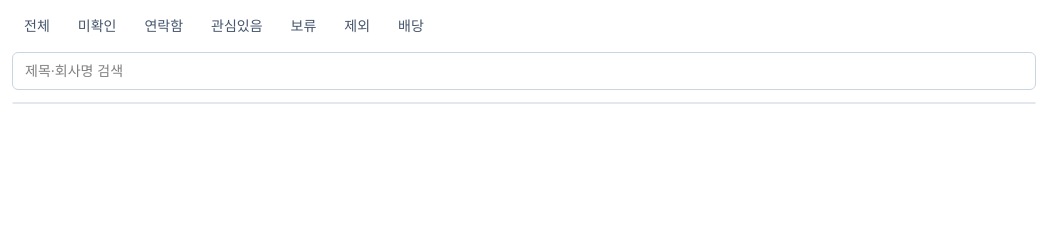
Test: 필터 변경 경쟁 상태 (회귀) › 늦게 도착한 이전 요청의 빈 응답이 최신 결과를 덮어쓰지 않는다
// 검색어를 빠르게 바꿔 요청 두 개를 연달아 보낸다.
Type "가" into the field with placeholder "제목·회사명 검색".
click(524, 71); type("가")  # box [12,52,1036,90]
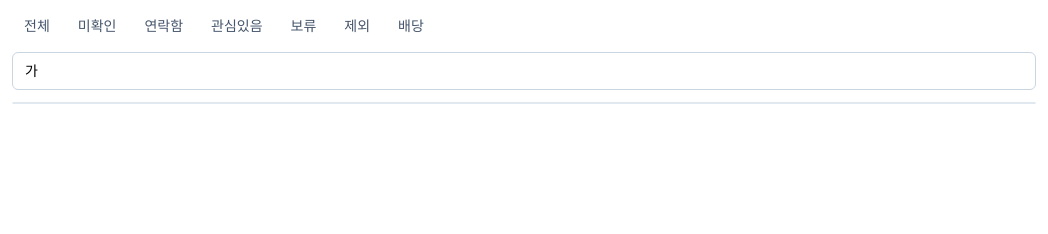
Replace the text in the field with placeholder "제목·회사명 검색" with "가온" at coordinates (524, 71), box [12,52,1036,90]
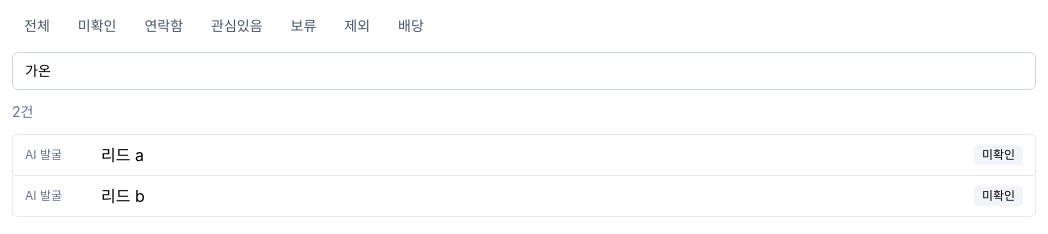
Expected: the text with test id "count" reads "2건", [12,103,33,120]
Expected: the number of list items is 2, [13,135,1035,176]; [13,176,1035,216]
